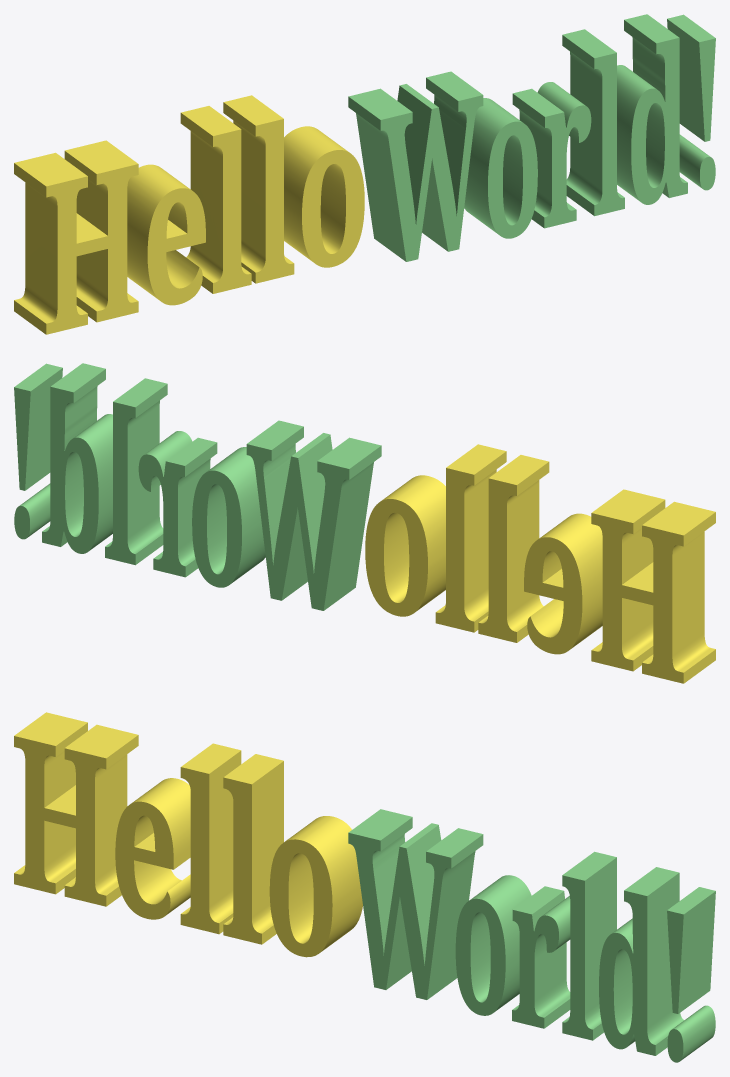
Rendered from hello_world.glb.
The picture shows the model from 3 angles, top to bottom: view 1: azimuth 30°, elevation 25°; view 2: azimuth 150°, elevation 25°; view 3: azimuth 330°, elevation 25°; orthographic projection.
Parts seen in each view (by area): view 1: tinkerobjcleanermaterialmergergles; view 2: tinkerobjcleanermaterialmergergles; view 3: tinkerobjcleanermaterialmergergles.
Part boxes in pixels (box(x1,y1,x2,y2)): tinkerobjcleanermaterialmergergles: box(14, 14, 715, 334); tinkerobjcleanermaterialmergergles: box(14, 363, 715, 683); tinkerobjcleanermaterialmergergles: box(14, 712, 715, 1062).
Size of the model in its own units: 1.2 by 0.3 by 0.1.
